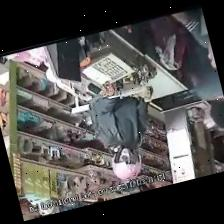person: (90, 96, 148, 178), (185, 33, 223, 127), (173, 8, 216, 70)
